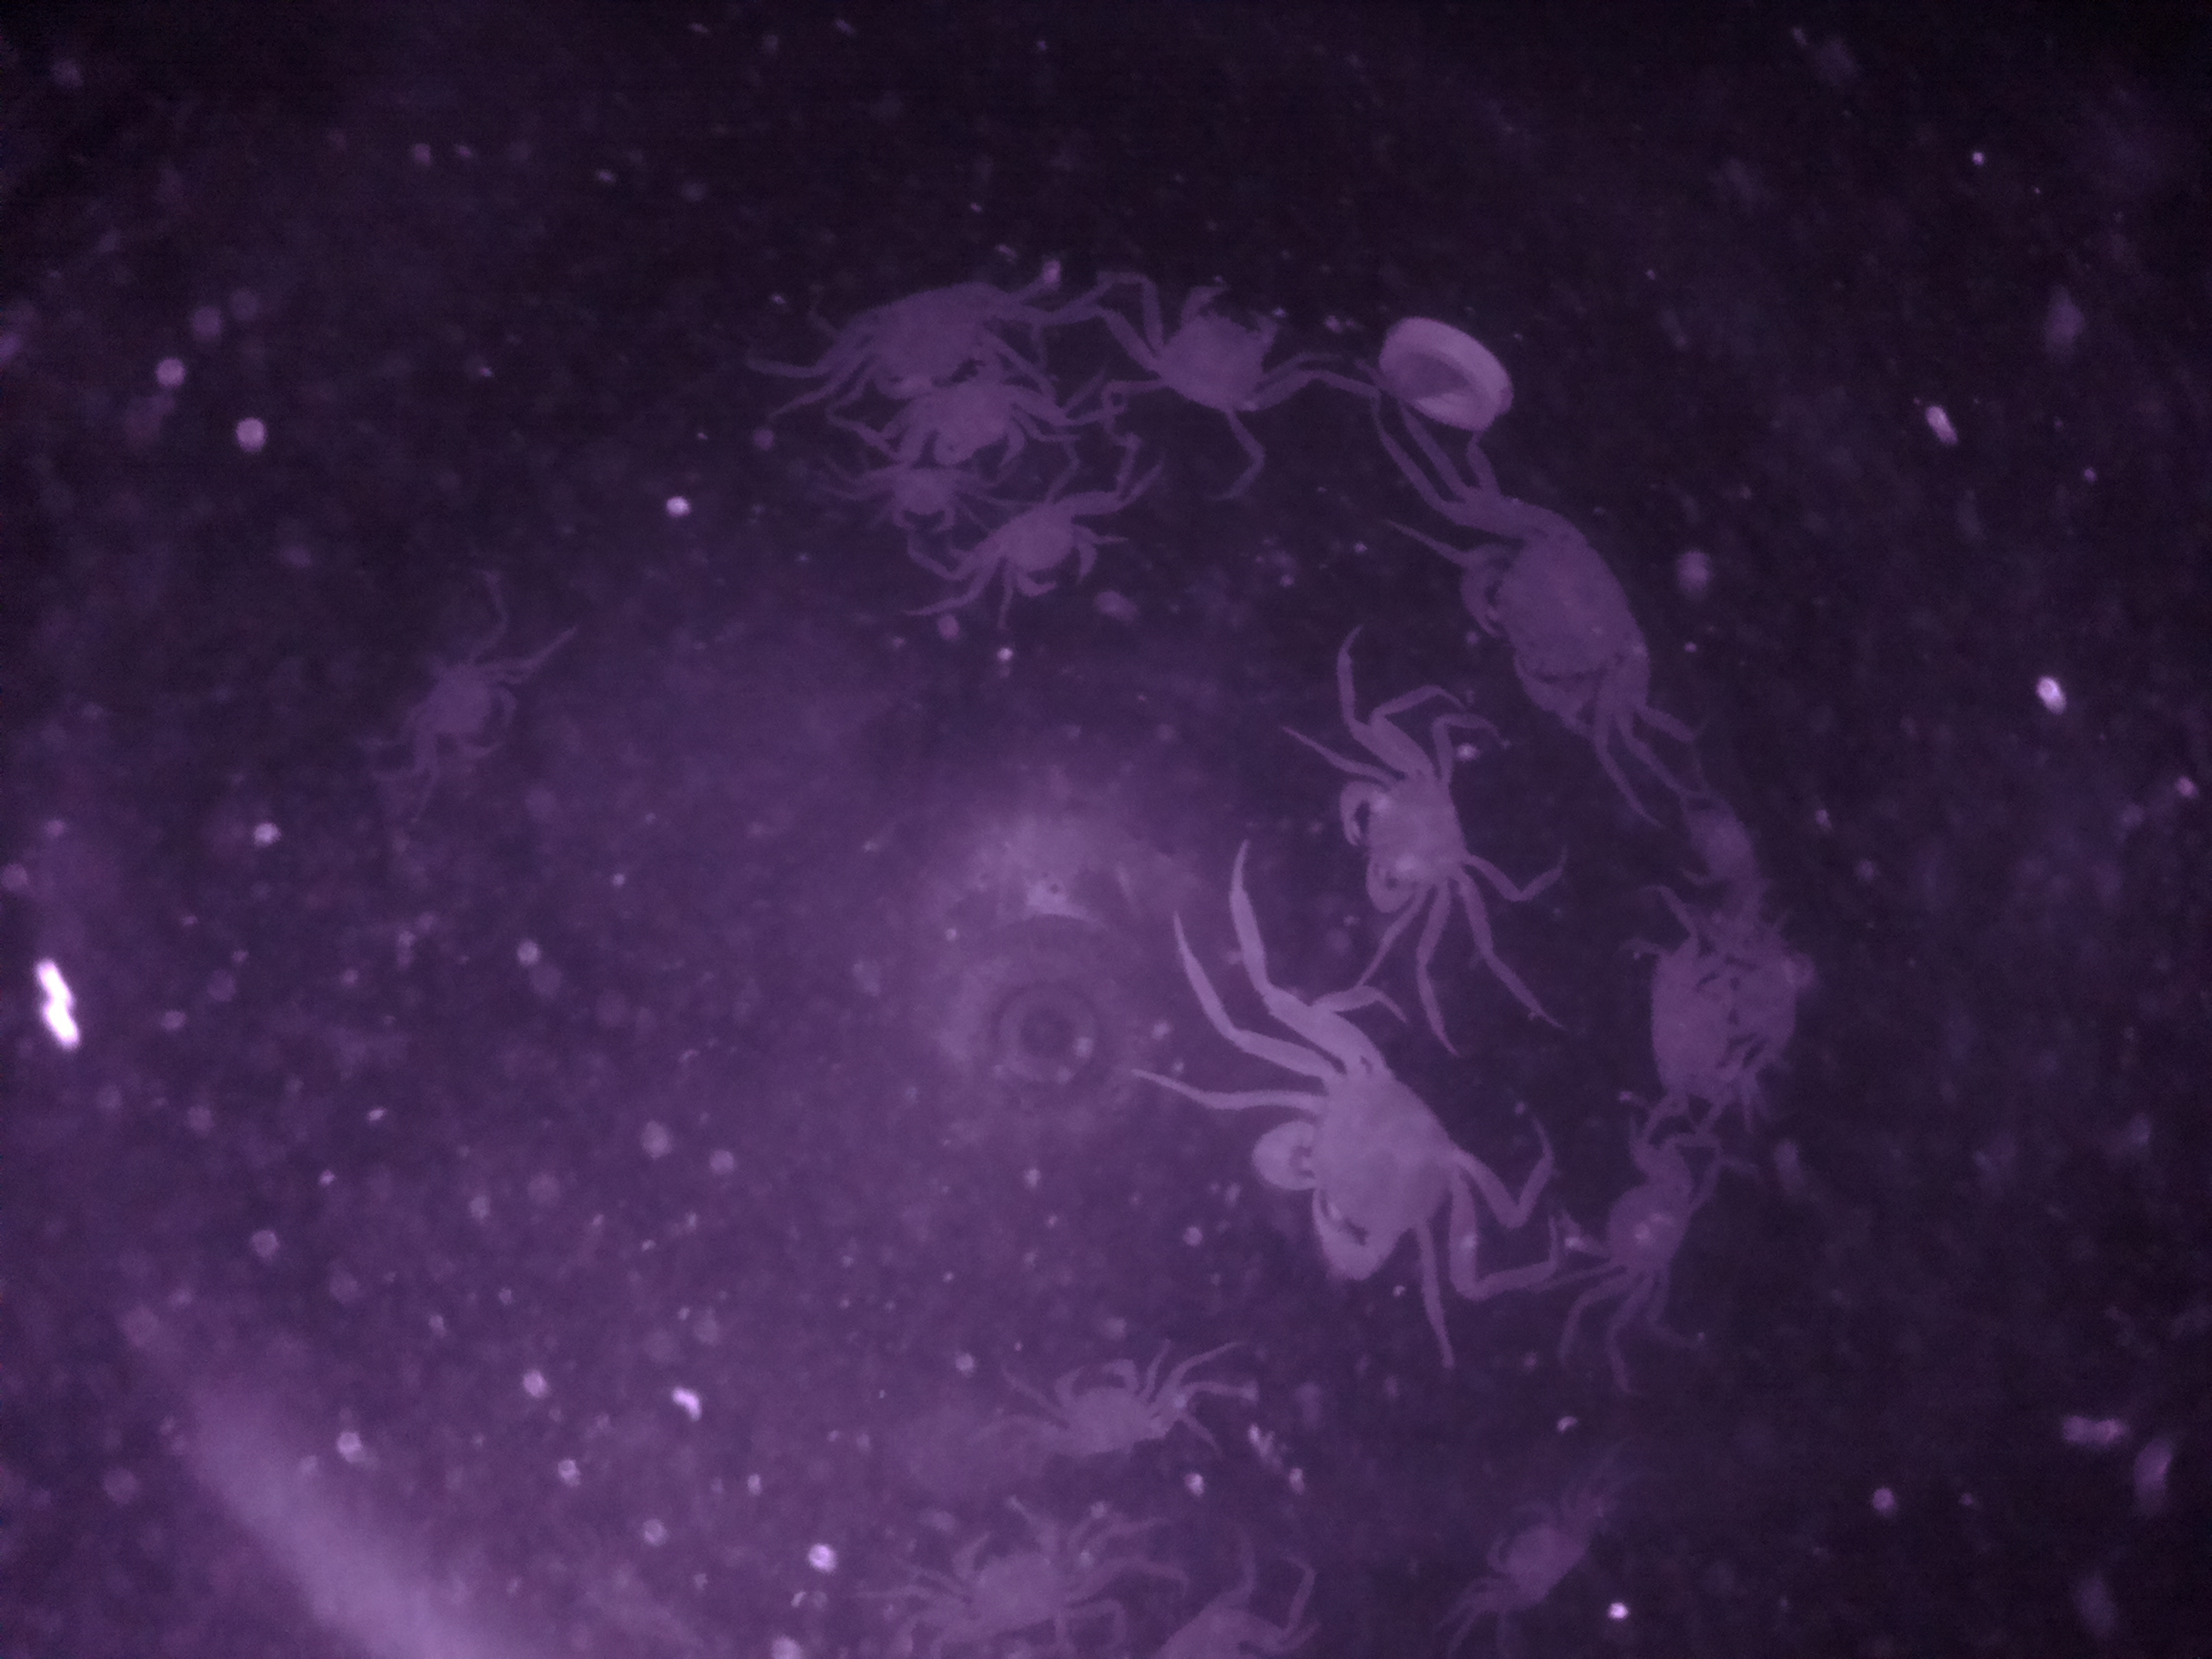Crab: (1233, 1023, 1494, 1300), (1446, 474, 1693, 744), (1322, 709, 1486, 939), (1564, 1121, 1714, 1371), (909, 1492, 1115, 1656), (1111, 265, 1312, 430), (819, 260, 1042, 408), (1632, 913, 1764, 1138), (855, 364, 1078, 484), (923, 481, 1127, 599), (1026, 1340, 1181, 1474)
